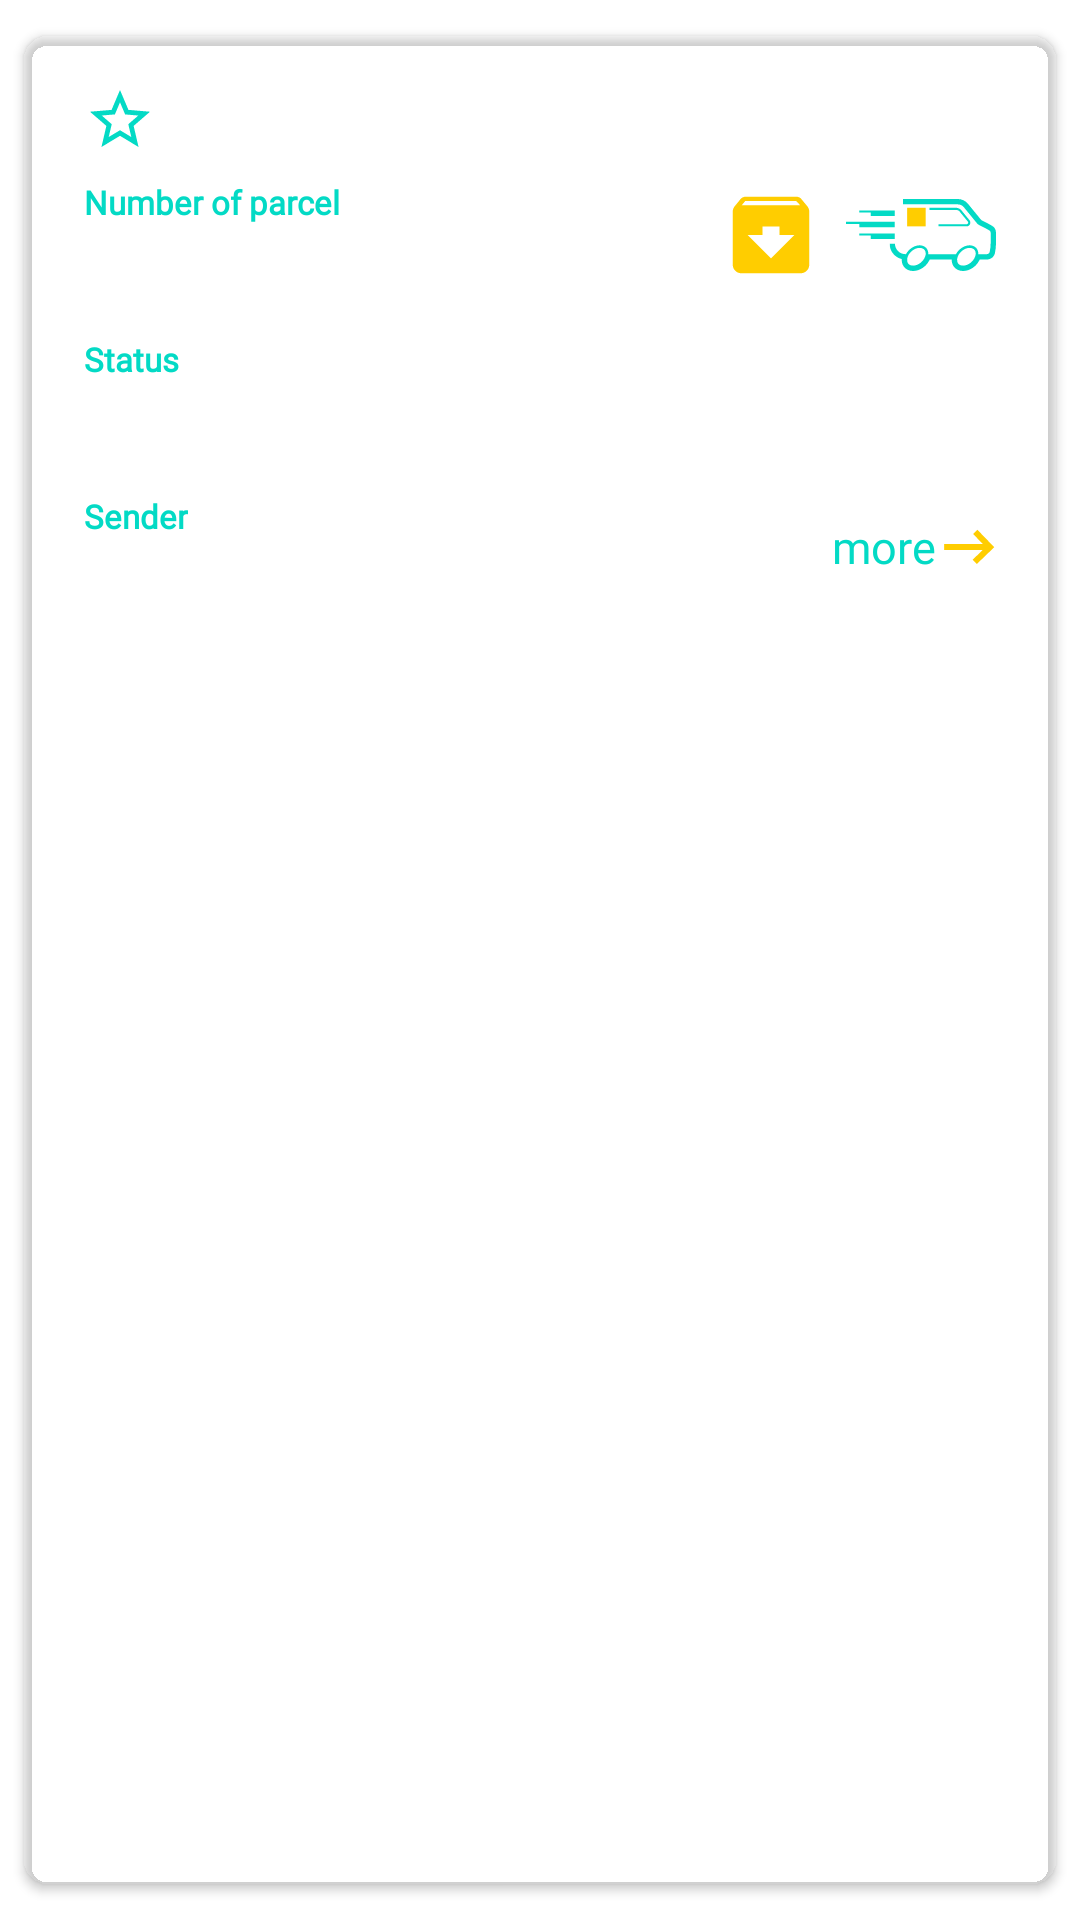

Where to tap for icons on this 1080x1920 app screen, as (x,y):
archive: (771,235)
arrow: (969,547)
kurier: (921,235)
star: (120,118)
